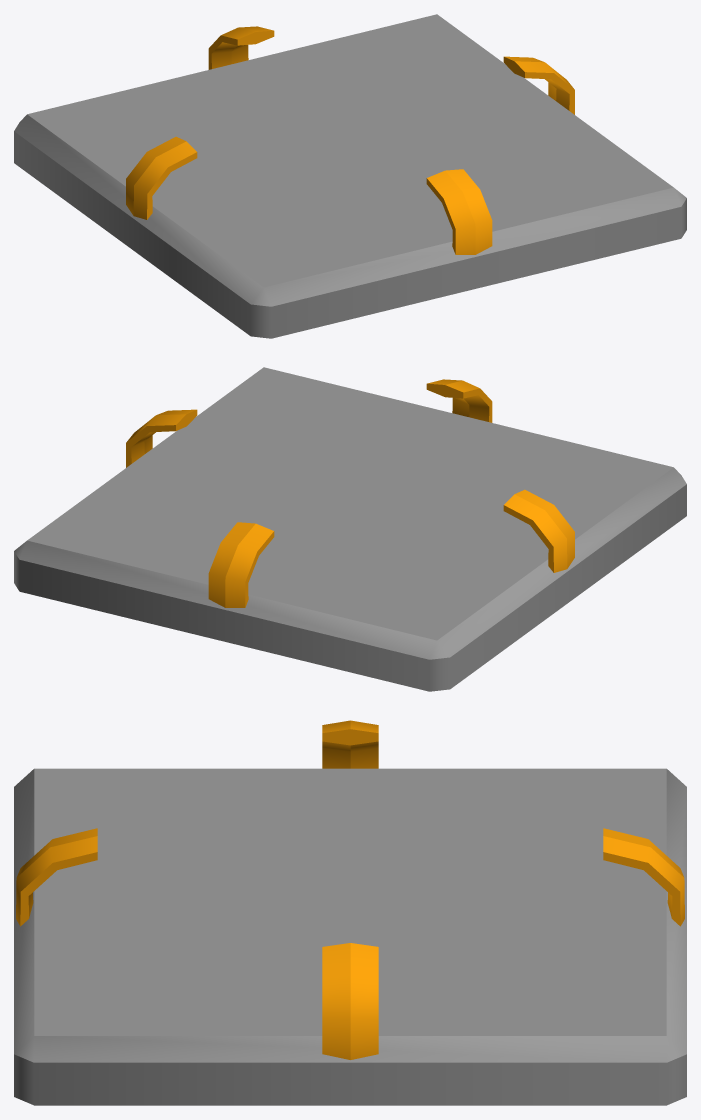
File: SM_ENV_BODENPLATTE_01.FBX
3 views of the same model, one above another, from view 1: azimuth 30°, elevation 25°; view 2: azimuth 150°, elevation 25°; view 3: azimuth 270°, elevation 25° (orthographic). The views are drawn at different scales.
Visible parts, largest first — view 1: LP_bodenplatte_01; view 2: LP_bodenplatte_01; view 3: LP_bodenplatte_01.
Part boxes in pixels (x1,y1,x2,y2): LP_bodenplatte_01: [14, 14, 686, 338]; LP_bodenplatte_01: [14, 367, 686, 691]; LP_bodenplatte_01: [14, 720, 686, 1105].
Bounding box in the file's own units: 224 × 46.71 × 224.
